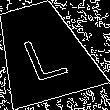L_N: (15, 23, 70, 80)
